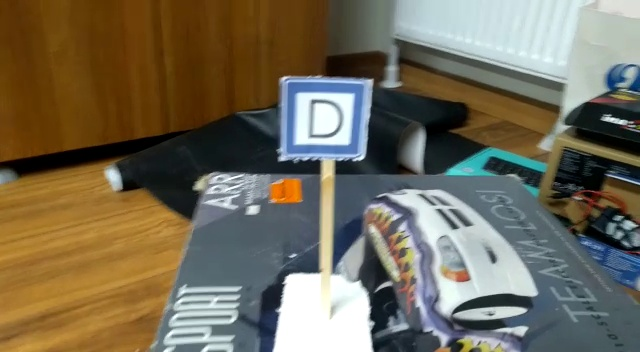durak: (269, 68, 381, 166)
